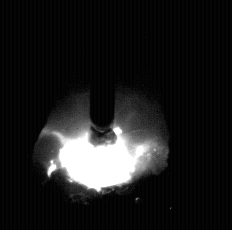arame: (91, 0, 116, 146)
poca: (35, 0, 169, 230)
